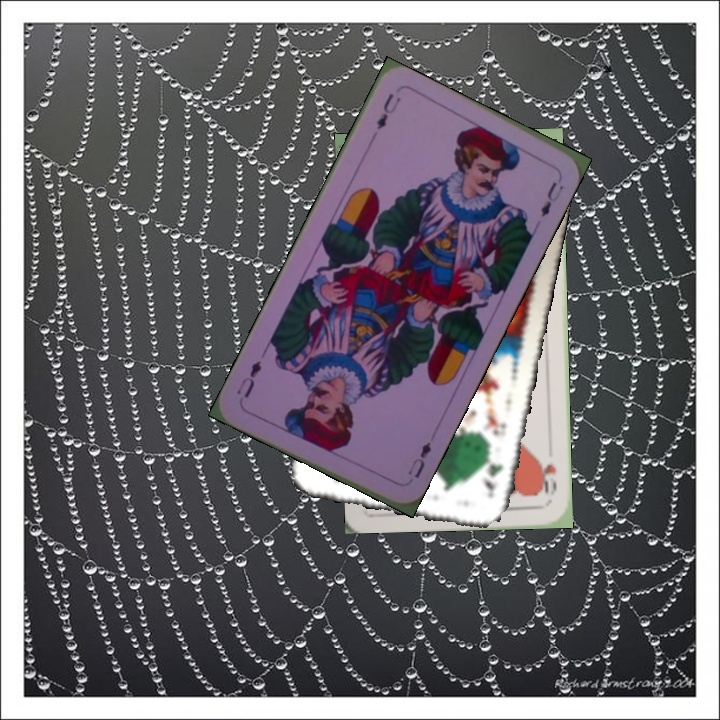EU: (403, 437, 435, 481), (372, 89, 403, 132)
GK: (479, 445, 505, 501)
HO: (536, 454, 560, 498)
